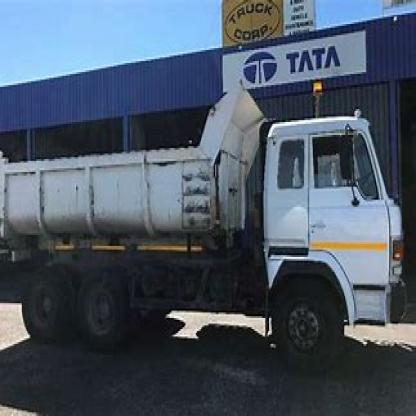dump_truck: (4, 85, 404, 379)
